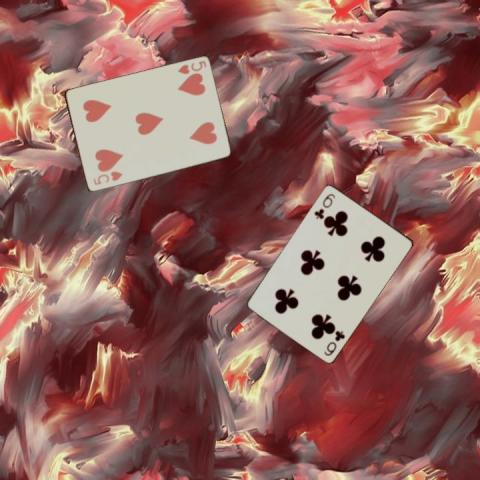5h: (90, 168, 124, 186), (175, 58, 207, 76)
6c: (311, 190, 337, 220), (321, 328, 346, 358)
